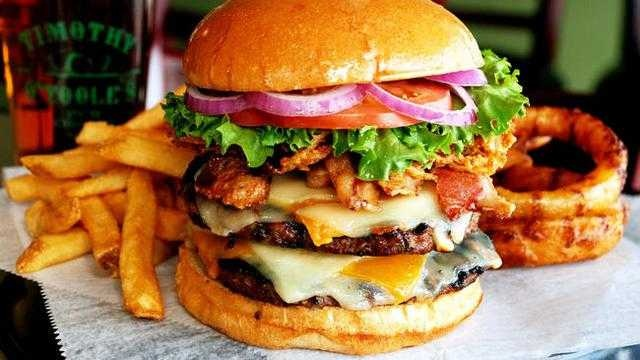hamburger: (169, 2, 497, 349)
